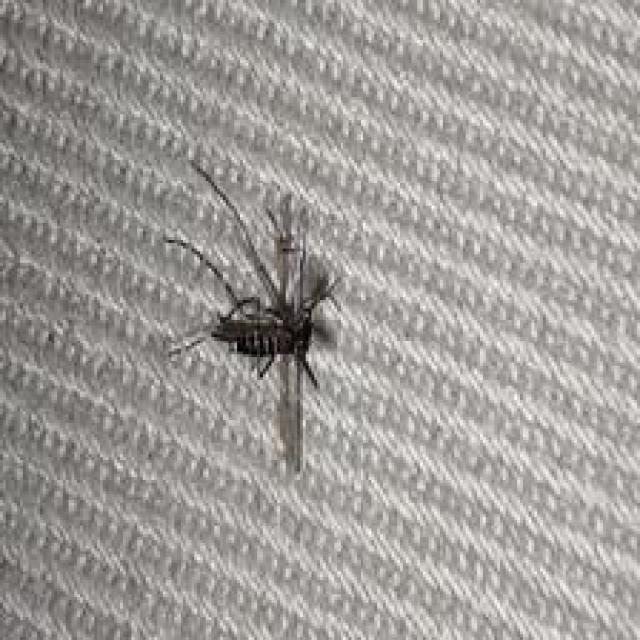Aedes albopictus: (160, 157, 346, 474)
